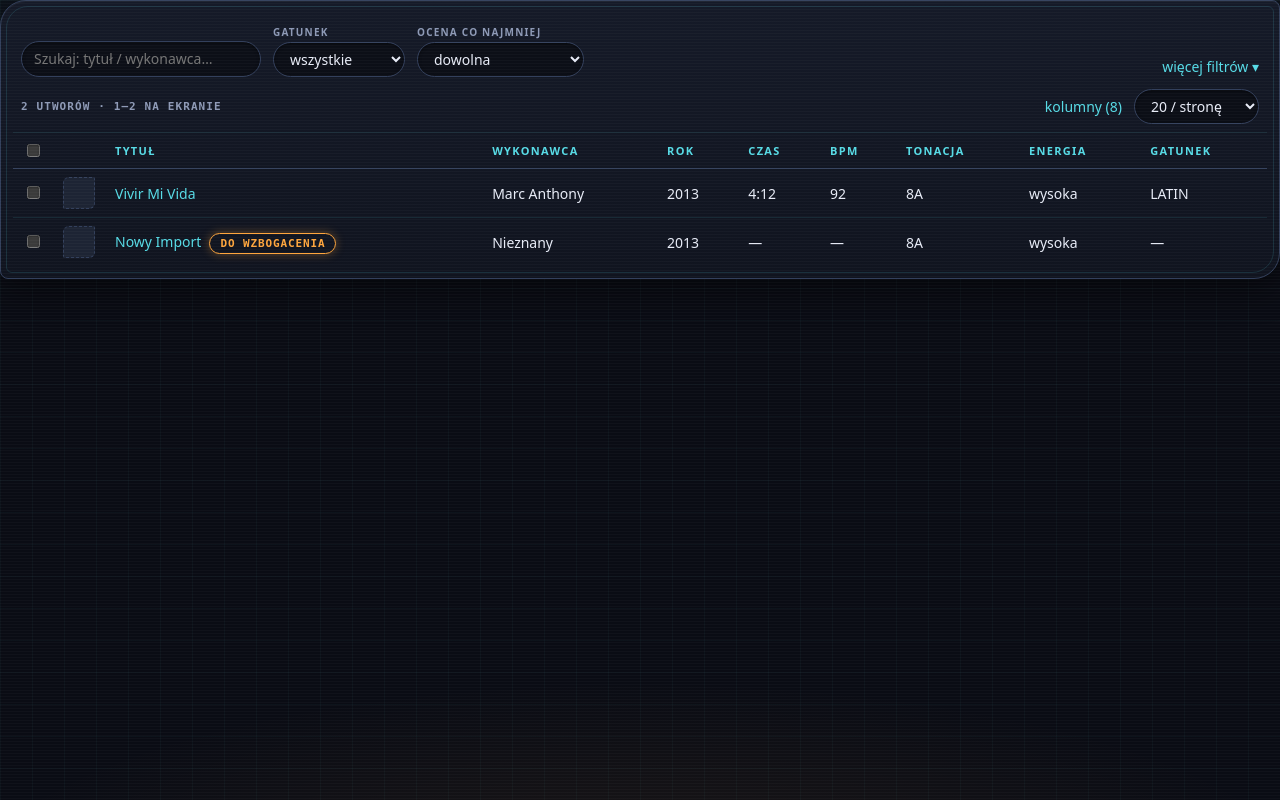
it: LibraryView › wybrane kolumny wracają w adresie i zmieniają zestaw nagłówków
Expected: the button "Vivir Mi Vida" is shown, [115,182,196,204]
Expected: the column heading "Popularność" is not shown
Click the button with test id "column-picker-toggle" at (1083, 106), box [1045,96,1122,117]
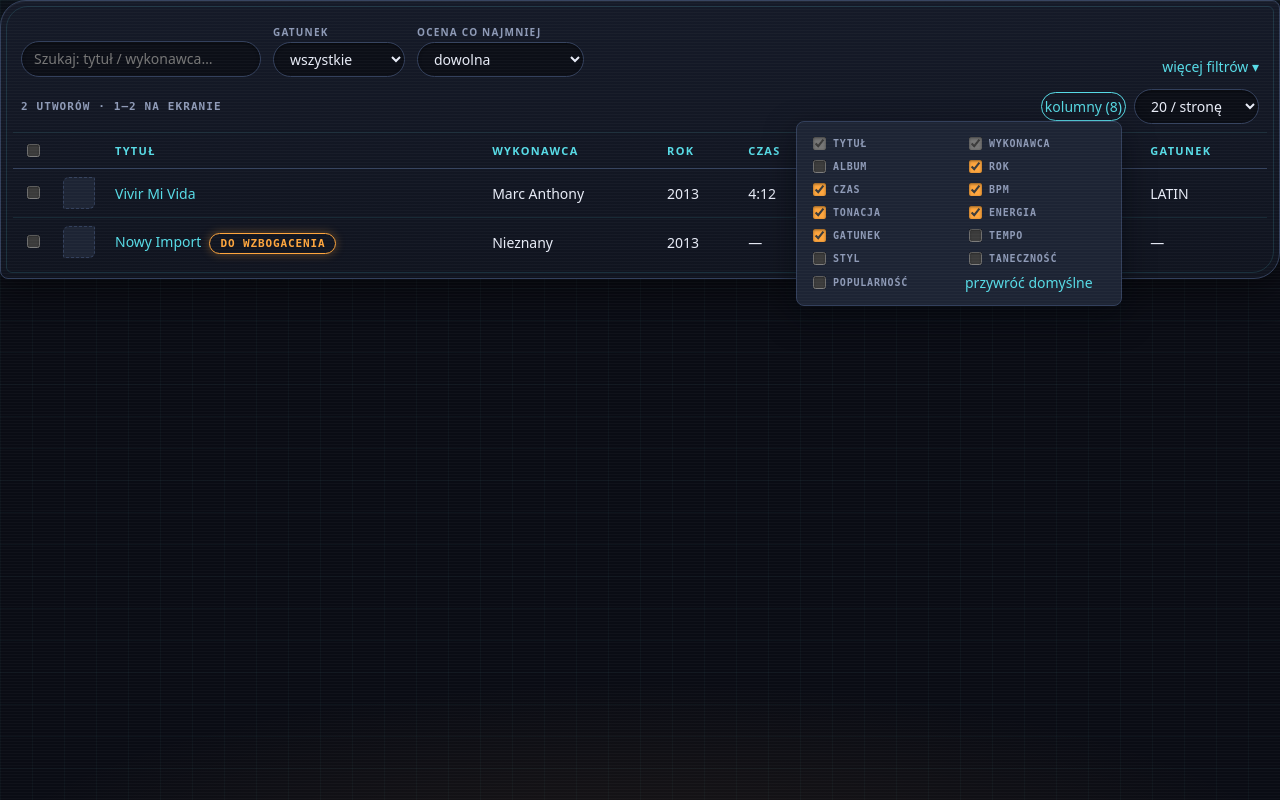
Click the text "Popularność" at (870, 283), box [833,275,908,291]
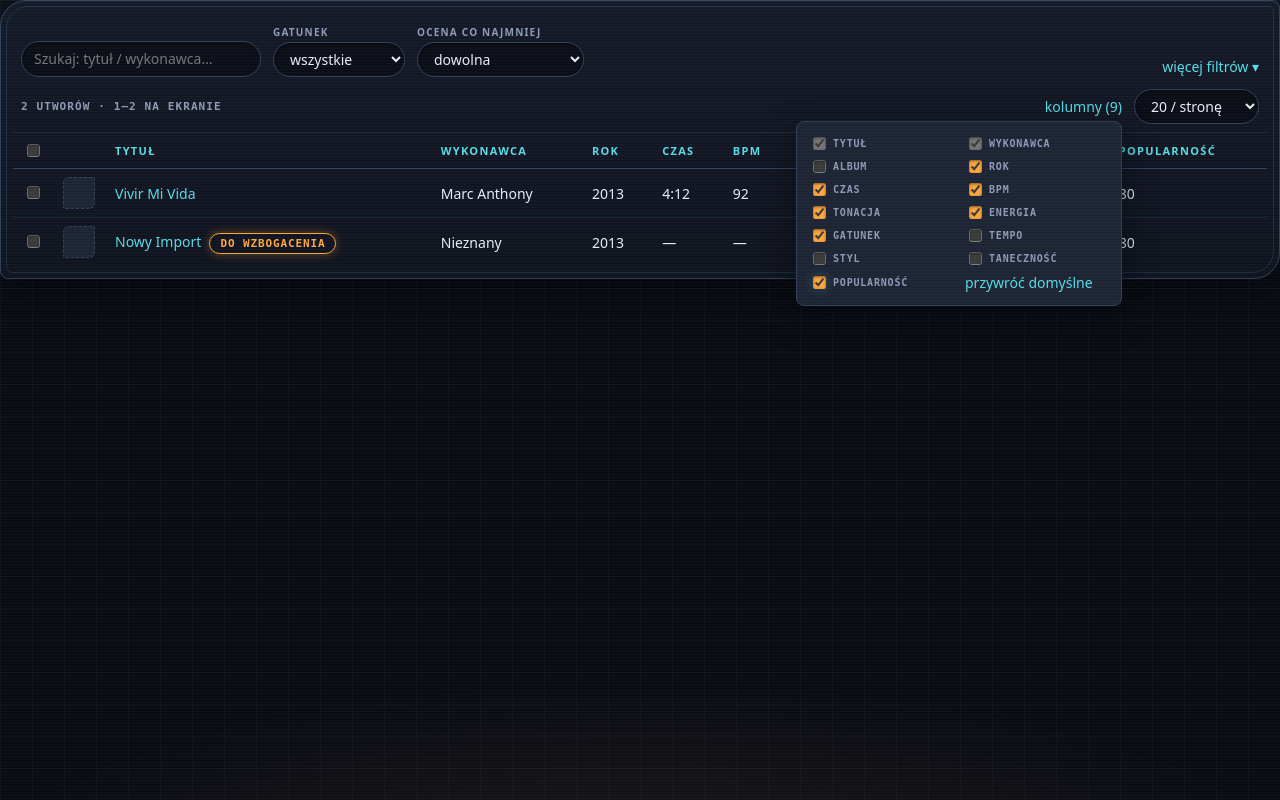
Expected: the column heading "Popularność" is shown, [1109,132,1267,169]
